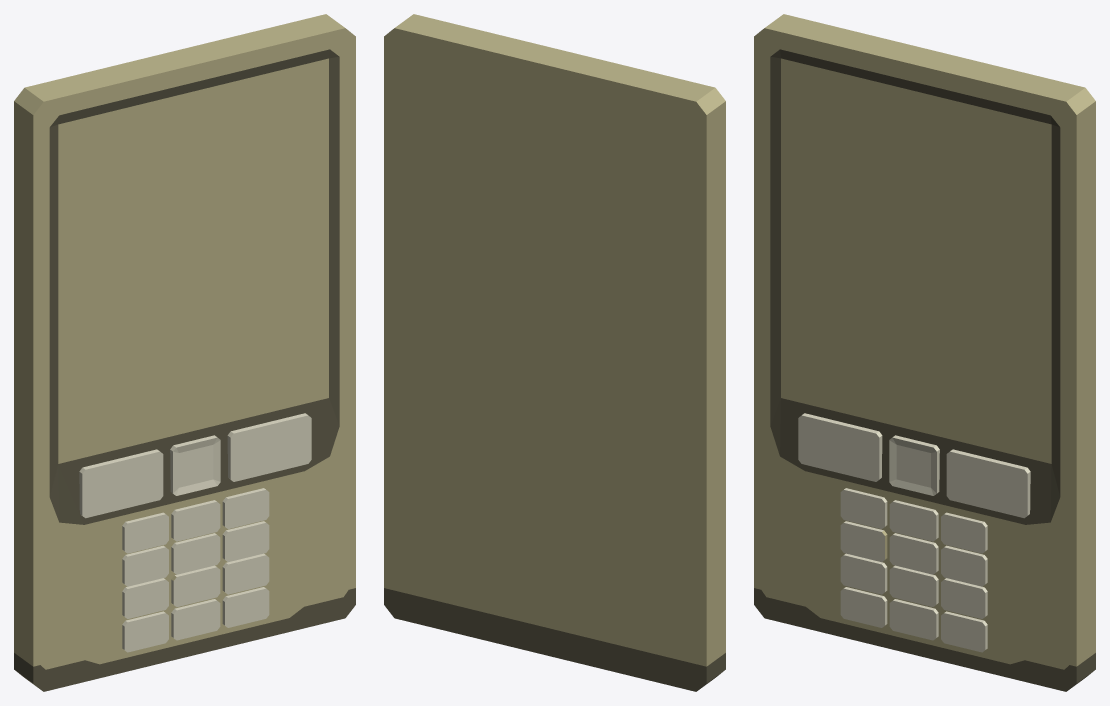
The model's file is menuPhone.glb.
3 views of the same model, side by side, from view 1: azimuth 30°, elevation 25°; view 2: azimuth 150°, elevation 25°; view 3: azimuth 330°, elevation 25° (orthographic).
Parts seen in each view (by area): view 1: epiPhone, phone, leftButton, rightButton, dpad, phone.002, phone.005, phone.000, phone.008, phone.#, phone.003, phone.006 (+5 smaller); view 2: phone; view 3: epiPhone, phone, rightButton, leftButton, dpad, phone.002, phone.005, phone.008, phone.000, phone.*, phone.001, phone.004 (+5 smaller).
Part boxes in pixels (x1,y1,x2,y2): epiPhone: [58, 58, 328, 463]; phone: [14, 14, 355, 691]; leftButton: [79, 449, 163, 518]; rightButton: [227, 413, 311, 481]; dpad: [170, 435, 220, 495]; phone.002: [171, 500, 220, 541]; phone.005: [171, 533, 220, 574]; phone.000: [171, 599, 220, 640]; phone.008: [171, 565, 220, 606]; phone.#: [222, 587, 269, 627]; phone.003: [222, 488, 269, 529]; phone.006: [222, 521, 269, 562]; phone: [384, 14, 725, 691]; epiPhone: [781, 58, 1051, 463]; phone: [754, 14, 1095, 691]; rightButton: [946, 449, 1030, 518]; leftButton: [798, 413, 882, 481]; dpad: [889, 435, 939, 495]; phone.002: [889, 500, 938, 541]; phone.005: [889, 533, 938, 574]; phone.008: [889, 565, 938, 606]; phone.000: [889, 599, 938, 640]; phone.*: [840, 587, 887, 627]; phone.001: [840, 488, 887, 529]; phone.004: [840, 521, 887, 562].
Bounding box in the file's own units: 0.5739 × 1 × 0.0666.
